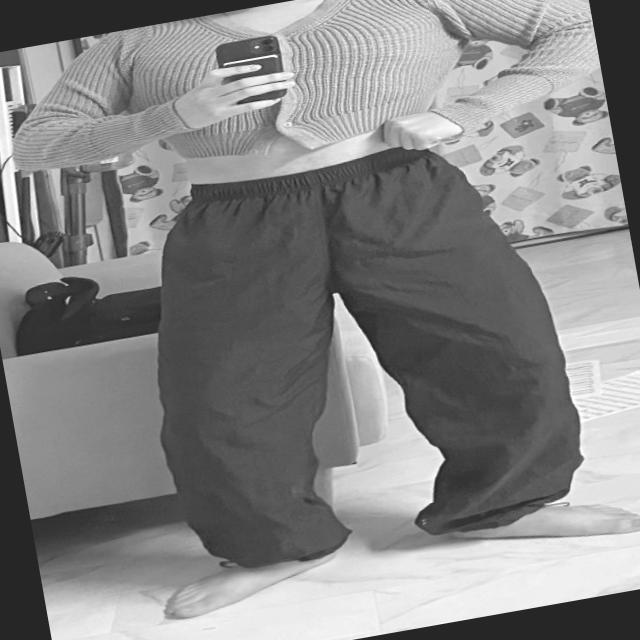cardigan: (0, 0, 607, 213)
trainingpants: (125, 127, 597, 581)
